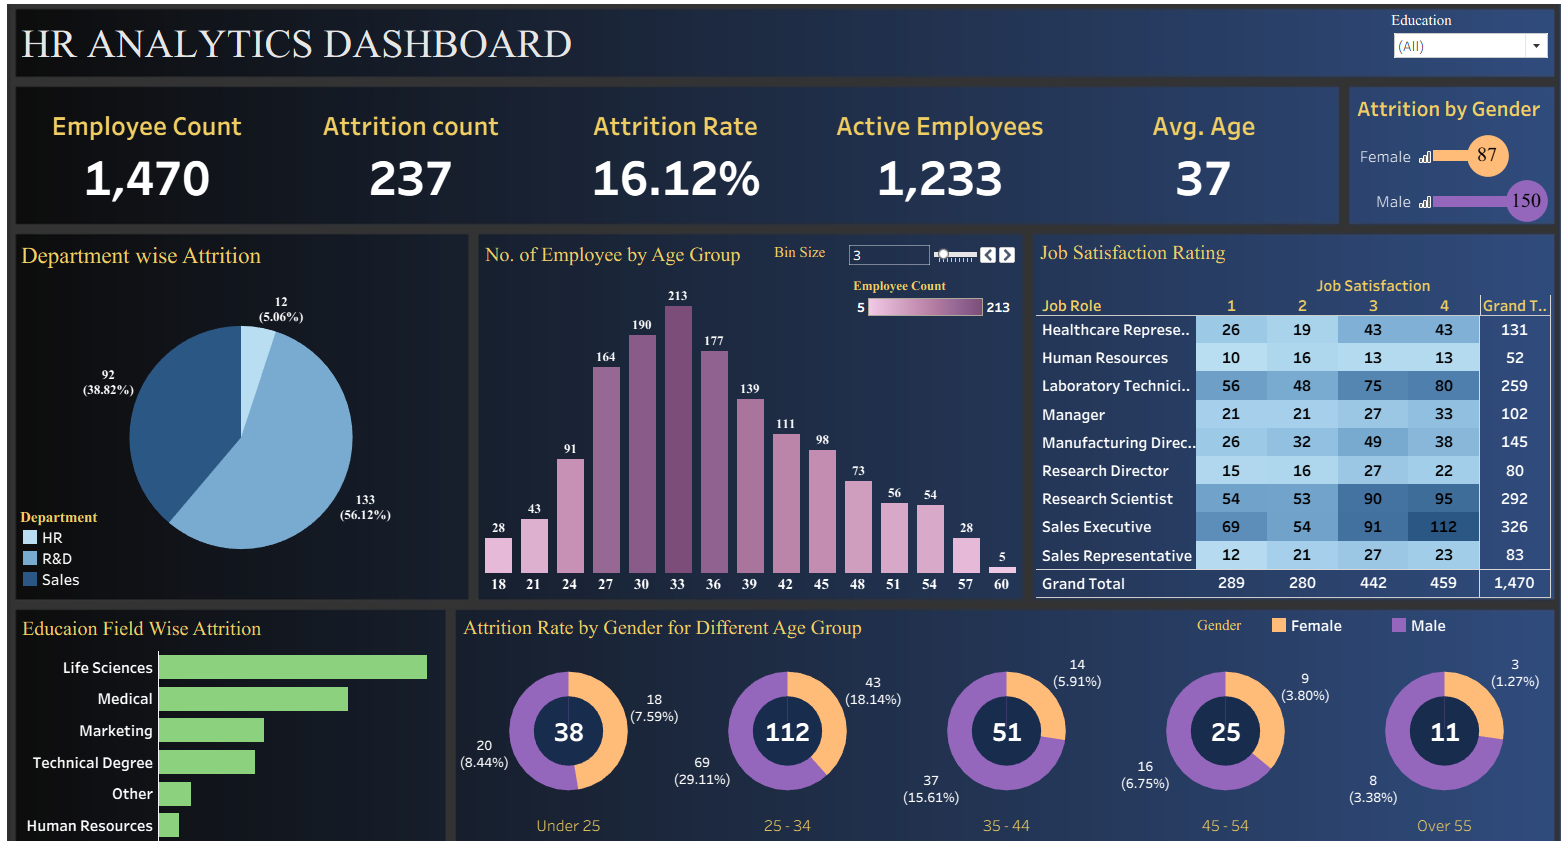

This screenshot's page, from the dashboard's own definition file:
{"tool":"tableau","page":{"name":"HR Analytics Dashboard","canvas":[1580,900],"ordinal":0},"visuals":[{"type":"image","param":"Image/Screenshot_18-7-2026_212841_.jpeg","box":[8,8,1564,884]},{"type":"text","box":[24,20,834,64]},{"type":"filter","title":"Department wise Attrition","param":"[federated.1ntbu5812xmq1v102zf680r33md0].[none:Education:nk]","box":[1397,20,160,63]},{"type":"worksheet","title":"Attrition by Gender","mark":"Automatic","rows":["Gender"],"cols":["Calculation_0317233692082176","Calculation_0317233692082176"],"box":[1359,98,200,134]},{"type":"worksheet","title":"KPI","mark":"Automatic","box":[21,110,1321,107]},{"type":"worksheet","title":"Job Satisfaction Rating","mark":"Square","rows":["Job Role"],"cols":["Job Satisfaction"],"box":[1042,245,516,361]},{"type":"worksheet","title":"Department wise Attrition","mark":"Pie","box":[23,247,448,356]},{"type":"worksheet","title":"No. of Employee by Age Group","mark":"Automatic","rows":["Employee Count"],"cols":["Age (bin)"],"box":[487,247,539,355]},{"type":"parameter","param":"[Parameters].[Parameter 1161933734797312]","box":[780,250,244,37]},{"type":"legend","title":"No. of Employee by Age Group","param":"[federated.1ntbu5812xmq1v102zf680r33md0].[sum:Employee Count:qk]","box":[859,286,162,52]},{"type":"legend","title":"Department wise Attrition","param":"[federated.1ntbu5812xmq1v102zf680r33md0].[none:Department:nk]","box":[26,517,105,85]},{"type":"worksheet","title":"Attrition Rate by Gender for Different Age Group","mark":"Pie","rows":["Calculation_1231242975612932","Calculation_1231242975612932"],"cols":["CF_age band"],"box":[465,620,1095,225]},{"type":"worksheet","title":"Educaion Field Wise Attrition","mark":"Automatic","rows":["Education Field"],"cols":["Calculation_0317233692082176"],"box":[24,621,424,228]},{"type":"legend","title":"Attrition Rate by Gender for Different Age Group","param":"[federated.1ntbu5812xmq1v102zf680r33md0].[none:Gender:nk]","box":[1203,623,350,28]}]}

Visuals, with their boxes on the page's 1580x900 design canvas (x1, y1, x2, y2). These are canvas units, not pixel positions in the 1562x841 screenshot, which may show the page scaled, cropped or inside an application window:
image: x1=8 y1=8 x2=1572 y2=892
text: x1=24 y1=20 x2=858 y2=84
"Department wise Attrition" filter: x1=1397 y1=20 x2=1557 y2=83
"Attrition by Gender" worksheet: x1=1359 y1=98 x2=1559 y2=232
"KPI" worksheet: x1=21 y1=110 x2=1342 y2=217
"Job Satisfaction Rating" worksheet (Square marks): x1=1042 y1=245 x2=1558 y2=606
"Department wise Attrition" worksheet (Pie marks): x1=23 y1=247 x2=471 y2=603
"No. of Employee by Age Group" worksheet: x1=487 y1=247 x2=1026 y2=602
parameter: x1=780 y1=250 x2=1024 y2=287
"No. of Employee by Age Group" legend: x1=859 y1=286 x2=1021 y2=338
"Department wise Attrition" legend: x1=26 y1=517 x2=131 y2=602
"Attrition Rate by Gender for Different Age Group" worksheet (Pie marks): x1=465 y1=620 x2=1560 y2=845
"Educaion Field Wise Attrition" worksheet: x1=24 y1=621 x2=448 y2=849
"Attrition Rate by Gender for Different Age Group" legend: x1=1203 y1=623 x2=1553 y2=651
